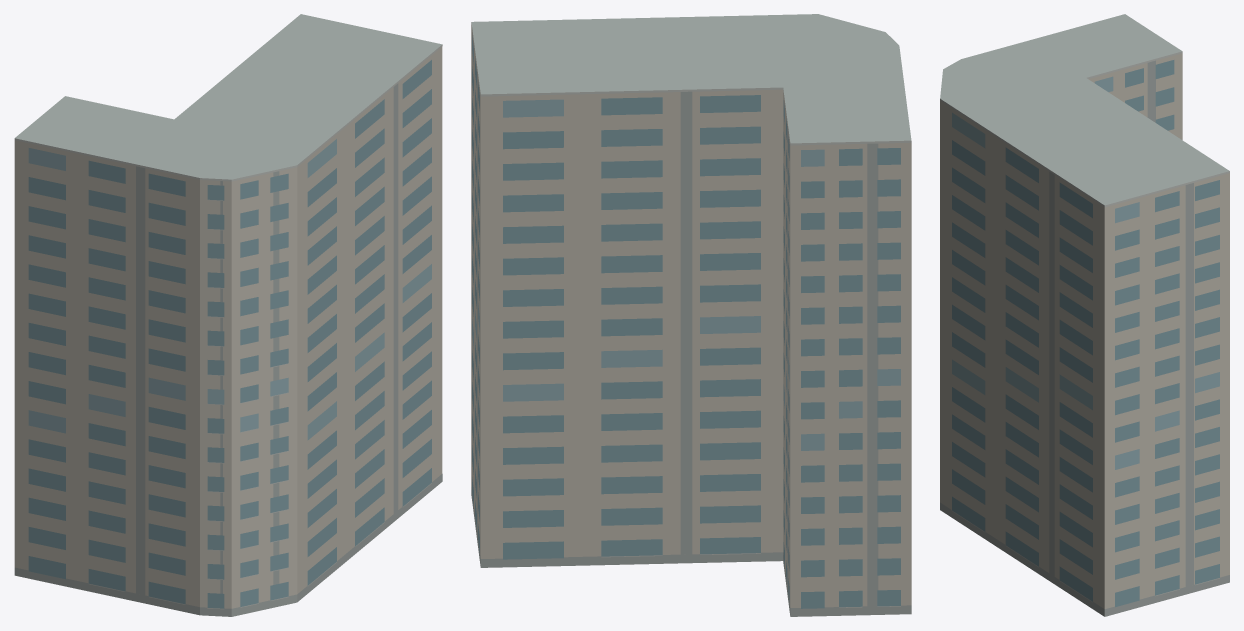
The model's file is residential-6b6dc004-c3b7-409d-b5c9-2c0ba5d12488.glb.
The picture shows the model from 3 angles, left to right: view 1: azimuth 30°, elevation 25°; view 2: azimuth 150°, elevation 25°; view 3: azimuth 270°, elevation 25°; orthographic projection. The views are drawn at different scales.
Parts seen in each view (by area): view 1: residential-6b6dc004-c3b7-409d-b5c9-2c0ba5d12488.tmp; view 2: residential-6b6dc004-c3b7-409d-b5c9-2c0ba5d12488.tmp; view 3: residential-6b6dc004-c3b7-409d-b5c9-2c0ba5d12488.tmp.
Part boxes in pixels (x1,y1,x2,y2): residential-6b6dc004-c3b7-409d-b5c9-2c0ba5d12488.tmp: (14,14,442,616); residential-6b6dc004-c3b7-409d-b5c9-2c0ba5d12488.tmp: (471,14,911,616); residential-6b6dc004-c3b7-409d-b5c9-2c0ba5d12488.tmp: (940,14,1229,616).
Bounding box in the file's own units: 53.92 × 54 × 34.49.
